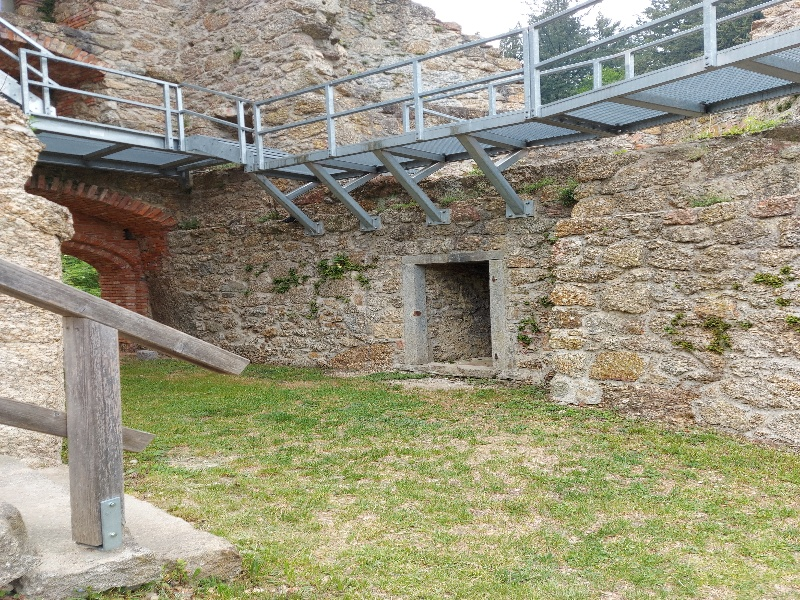door1: (395, 247, 509, 384)
